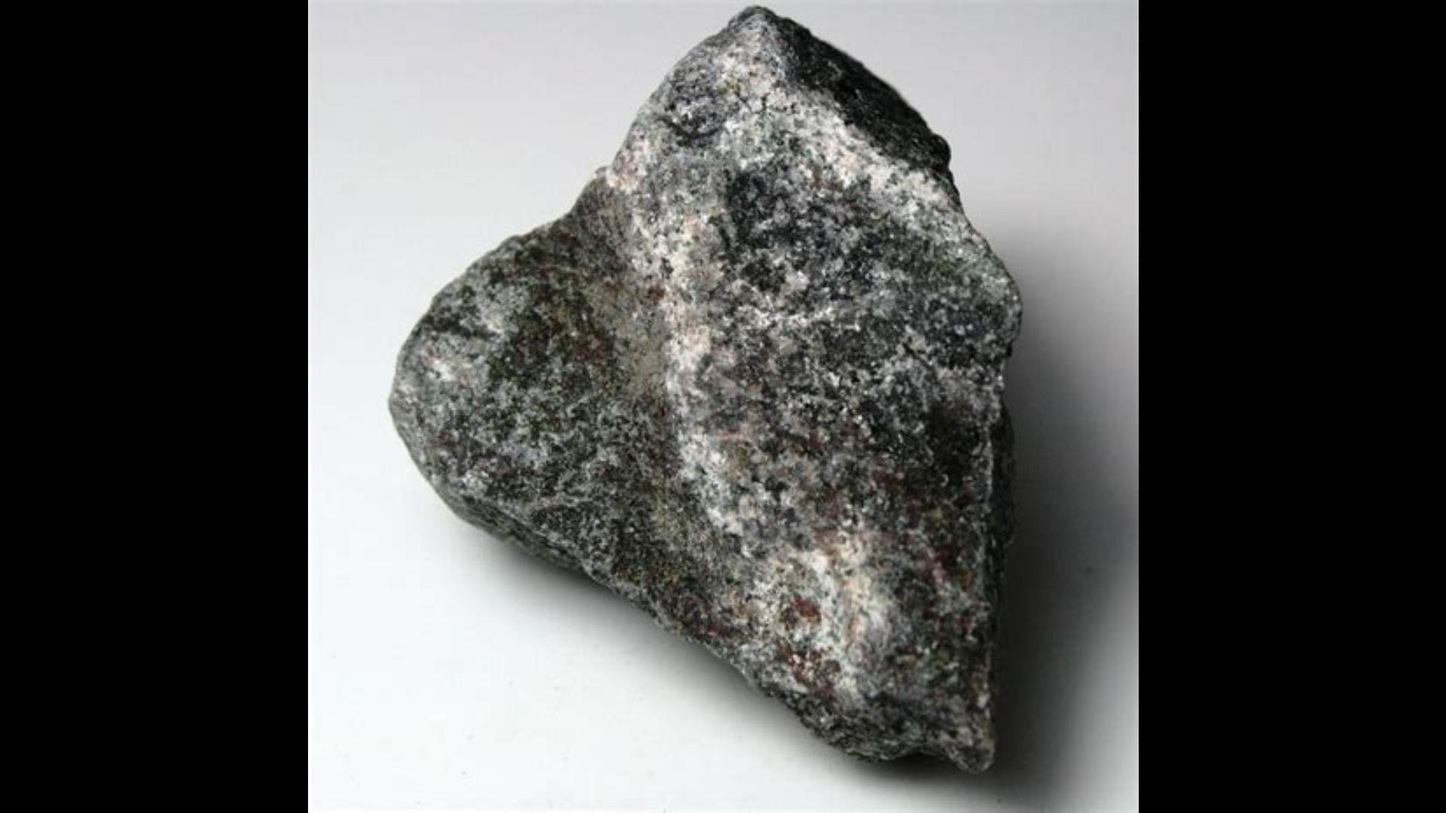rock: (391, 7, 1017, 771)
